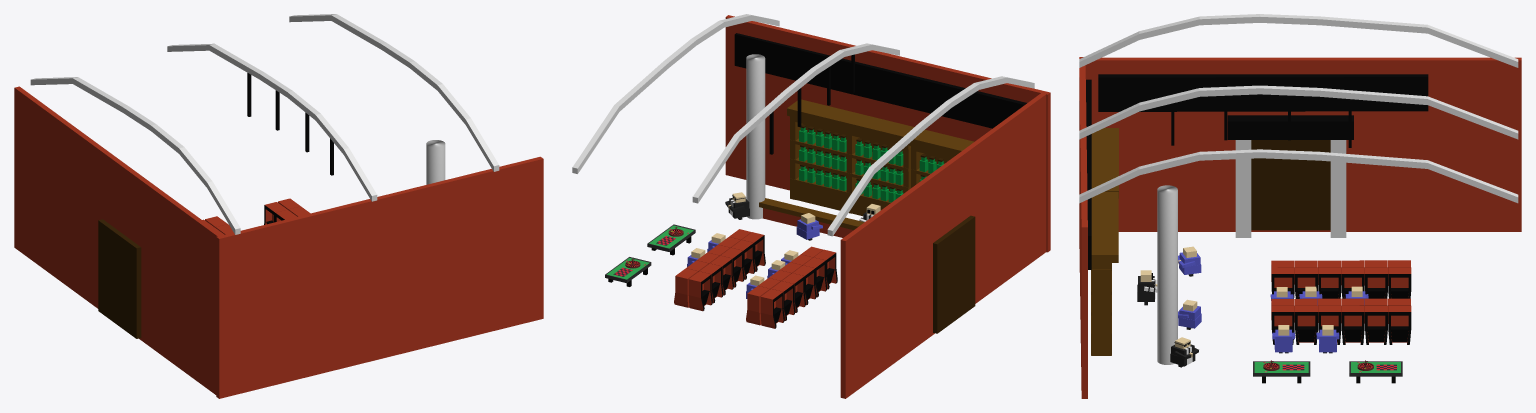
File: Rodrigo.fbx
3 renders of one model, left to right at view 1: azimuth 30°, elevation 25°; view 2: azimuth 150°, elevation 25°; view 3: azimuth 270°, elevation 25°, orthographic. The views are drawn at different scales.
Parts seen in each view (by area): view 1: Cube.186, Cube.136, Cube.183, Cube.223, Cube.222, Cube.135, Cylinder.007; view 2: Cube.136, Cube.186, Cube.228, Cube.183, Cylinder.007, Cube.014, Cube.223, Cube.135, Cube.222, Cube.012, Cube.007, Cube.142 (+21 smaller); view 3: Cube.136, Cube.229, Cube.183, Cube.135, Cube.222, Cube.223, Cylinder.007, Cube.185, Cube.184, Cube.186, Cube.014, Cube.009 (+16 smaller).
Part boxes in pixels (<box>): Cube.186: <box>216,156,543,398</box>; Cube.136: <box>14,86,222,394</box>; Cube.183: <box>98,219,141,338</box>; Cube.223: <box>30,77,240,234</box>; Cube.222: <box>167,43,377,201</box>; Cube.135: <box>289,14,499,171</box>; Cylinder.007: <box>426,140,445,184</box>; Cube.136: <box>840,93,1046,398</box>; Cube.186: <box>725,15,1050,252</box>; Cube.228: <box>734,33,1026,128</box>; Cube.183: <box>933,215,975,333</box>; Cylinder.007: <box>746,54,765,219</box>; Cube.014: <box>787,99,914,149</box>; Cube.223: <box>827,76,1034,236</box>; Cube.135: <box>572,14,779,173</box>; Cube.222: <box>692,43,899,203</box>; Cube.012: <box>790,177,890,215</box>; Cube.007: <box>759,198,864,237</box>; Cube.142: <box>908,129,974,159</box>; Cube.136: <box>1085,57,1521,231</box>; Cube.229: <box>1098,74,1428,111</box>; Cube.183: <box>1251,140,1330,230</box>; Cube.135: <box>1079,149,1518,203</box>; Cube.222: <box>1079,85,1518,139</box>; Cube.223: <box>1079,14,1518,67</box>; Cylinder.007: <box>1157,185,1177,364</box>; Cube.185: <box>1227,115,1353,139</box>; Cube.184: <box>1235,140,1346,237</box>; Cube.186: <box>1079,57,1087,398</box>; Cube.014: <box>1091,192,1118,270</box>; Cube.009: <box>1091,269,1111,355</box>.
Size of the model in its own units: 12181 by 7365 by 13245.
